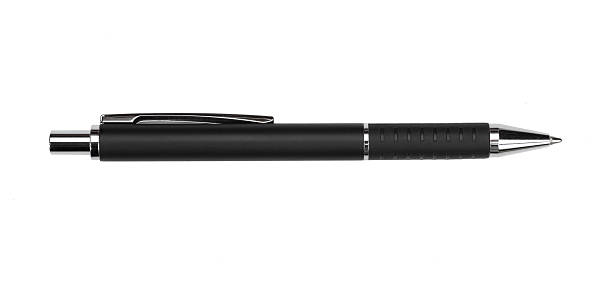pen: (43, 100, 572, 181)
